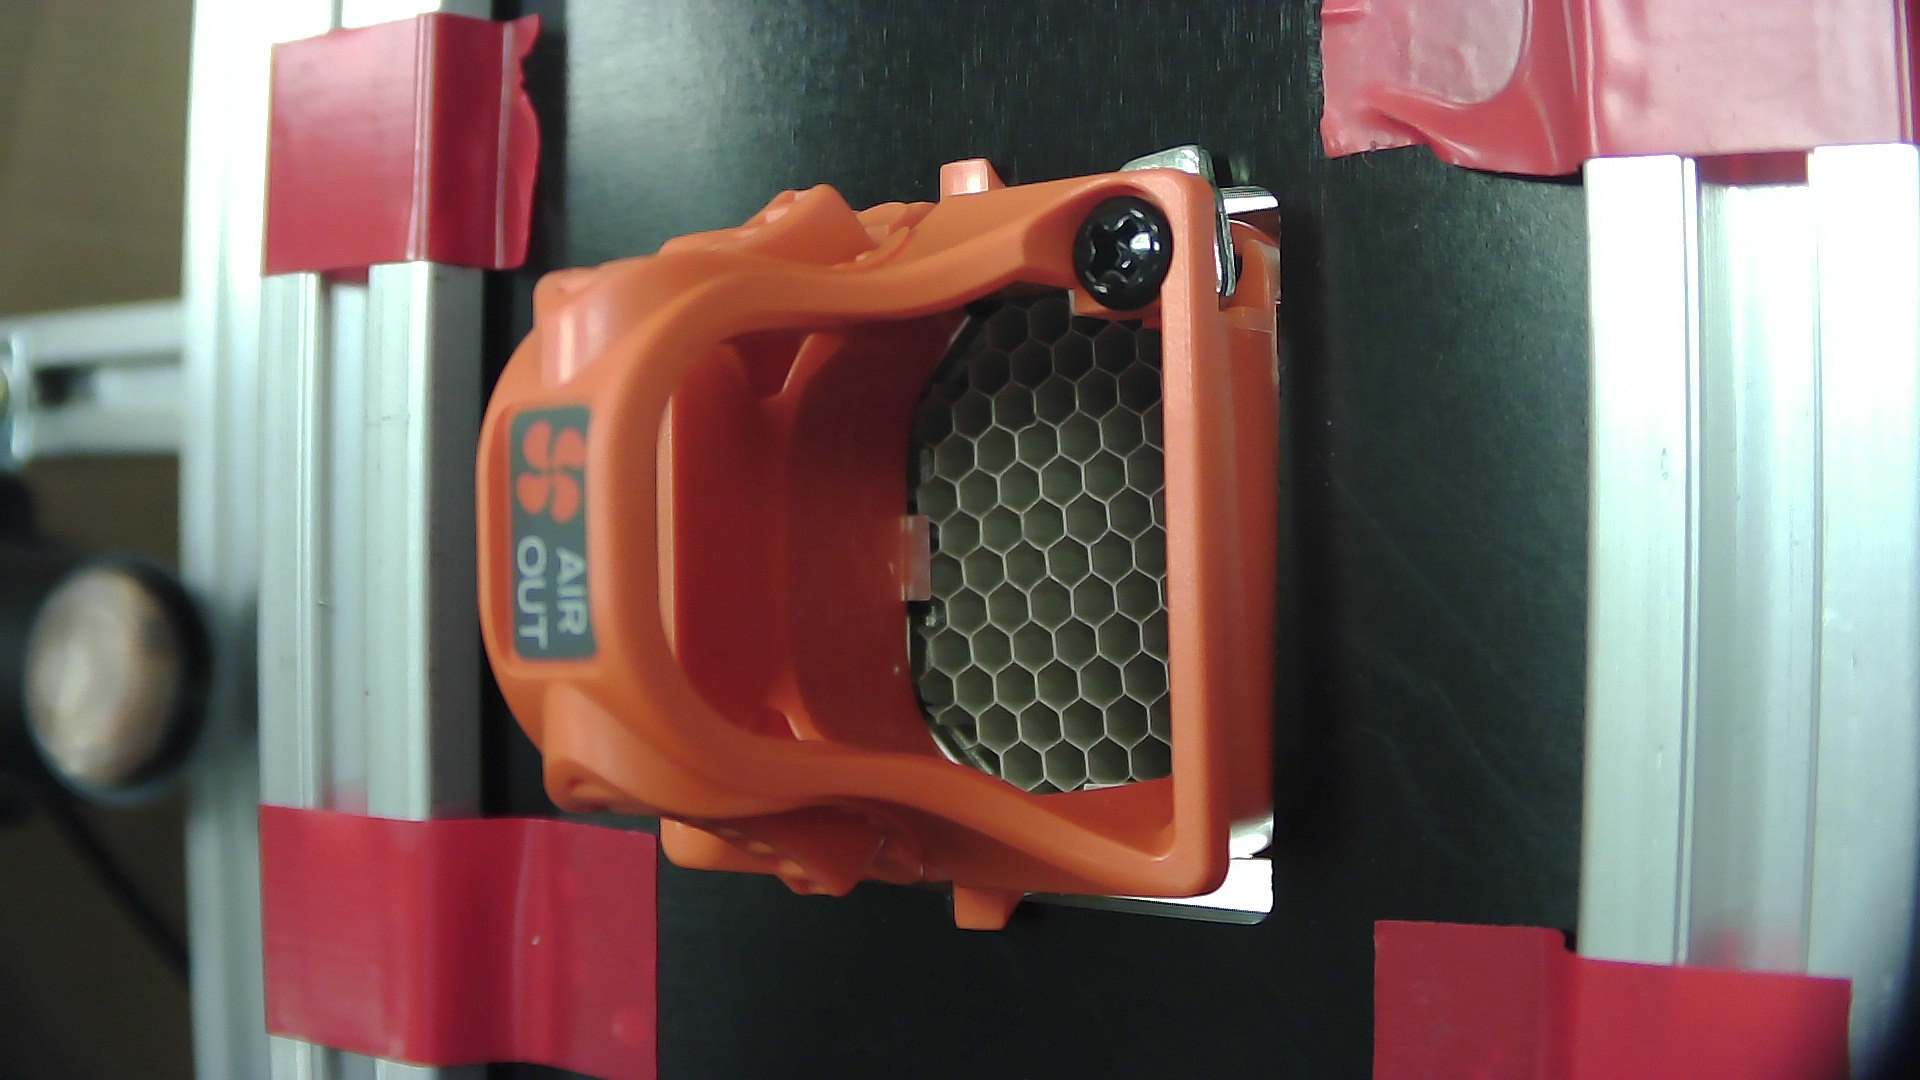3_0: (433, 99, 1333, 965)
